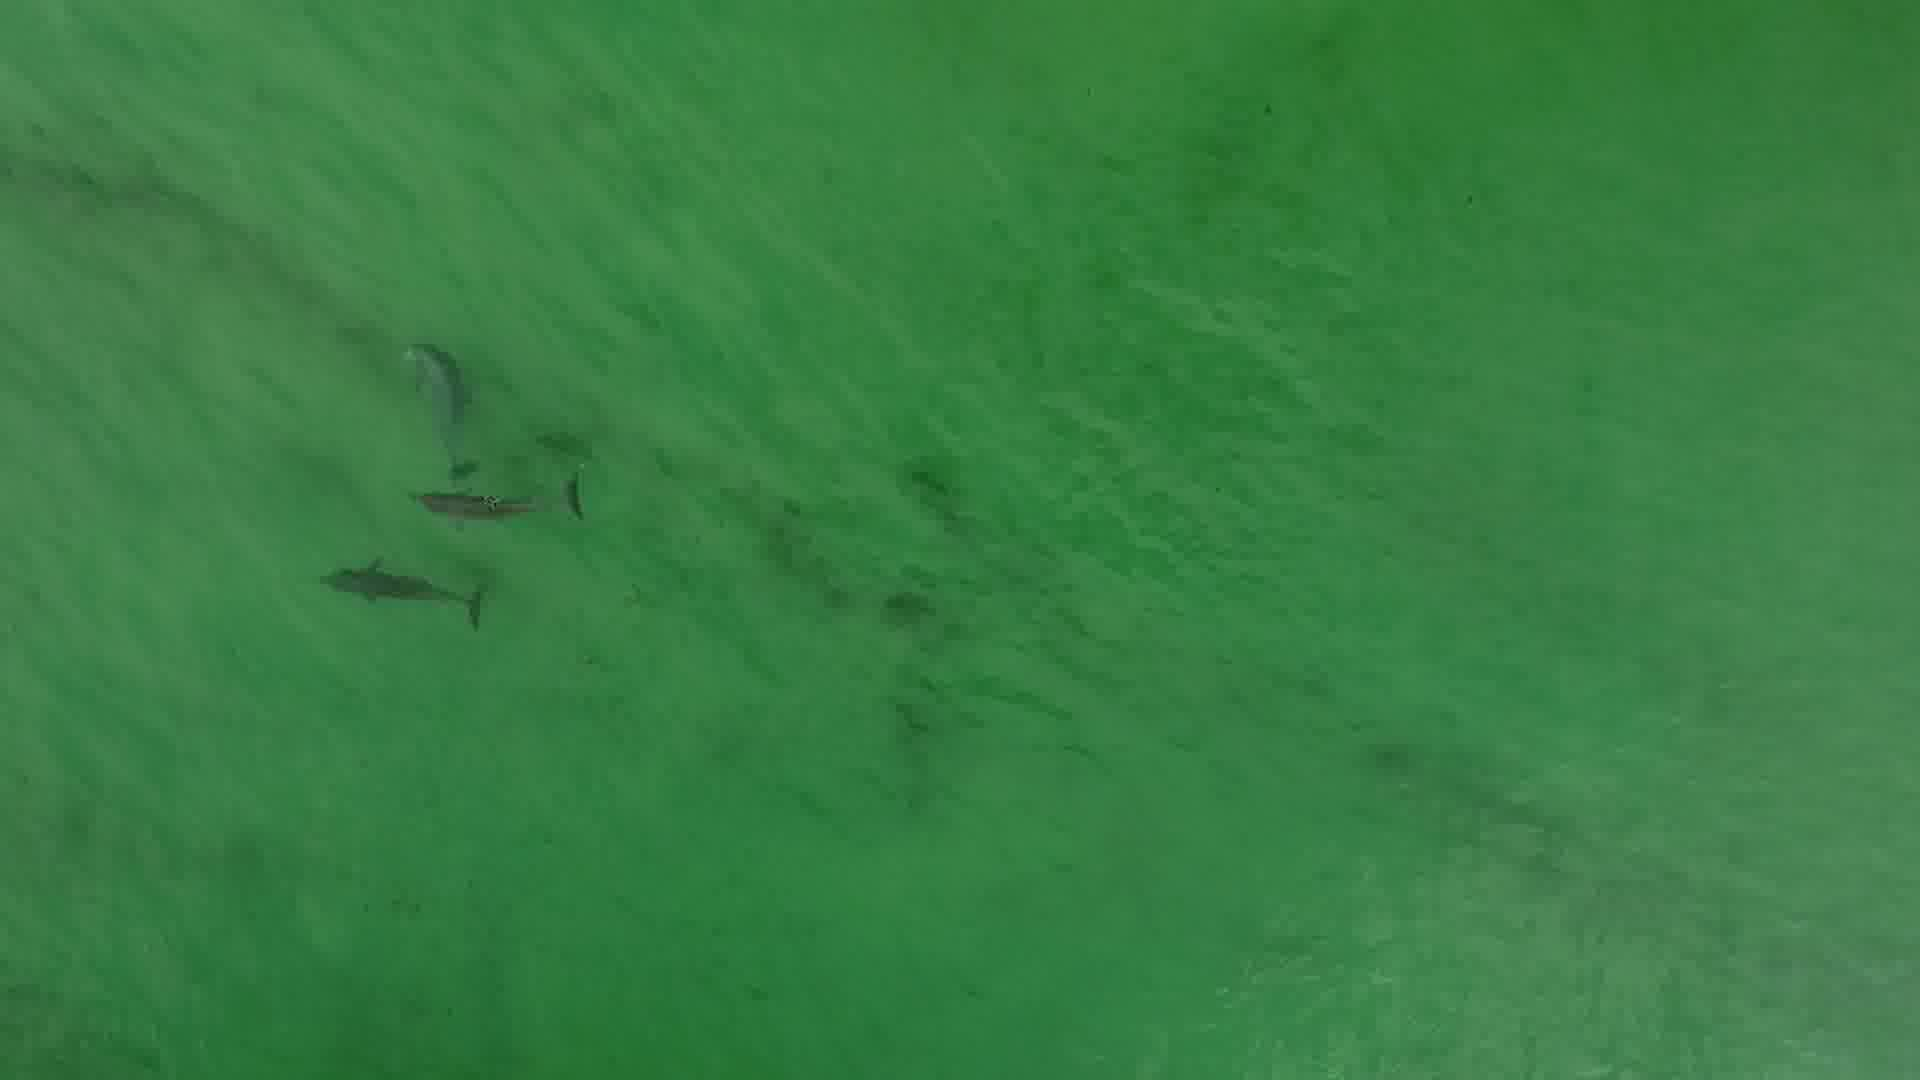dolphin: (287, 531, 520, 647), (396, 447, 612, 553), (378, 318, 495, 491)
